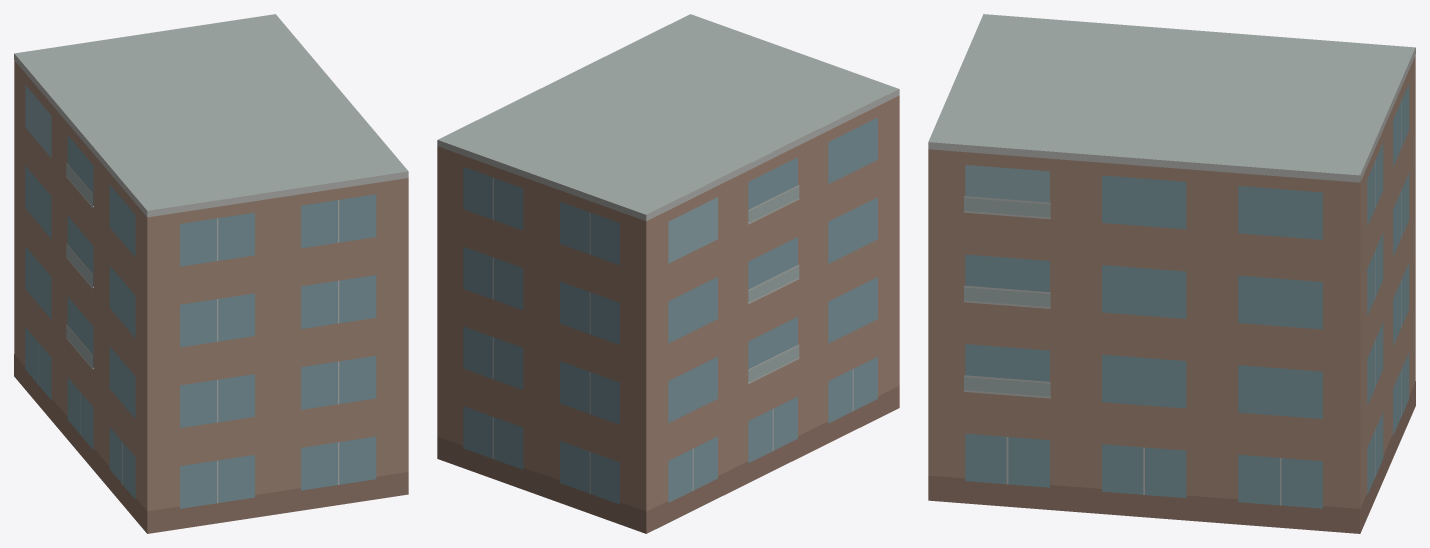
Rendered from residential-1fd75578-187d-47a9-b06c-35319a841c1a.glb.
The picture shows the model from 3 angles, left to right: view 1: azimuth 30°, elevation 25°; view 2: azimuth 150°, elevation 25°; view 3: azimuth 270°, elevation 25°; orthographic projection. The views are drawn at different scales.
Parts seen in each view (by area): view 1: residential-1fd75578-187d-47a9-b06c-35319a841c1a.tmp; view 2: residential-1fd75578-187d-47a9-b06c-35319a841c1a.tmp; view 3: residential-1fd75578-187d-47a9-b06c-35319a841c1a.tmp.
Part boxes in pixels (left/top/right/bottom): residential-1fd75578-187d-47a9-b06c-35319a841c1a.tmp: left=14, top=14, right=408, bottom=533; residential-1fd75578-187d-47a9-b06c-35319a841c1a.tmp: left=437, top=14, right=899, bottom=533; residential-1fd75578-187d-47a9-b06c-35319a841c1a.tmp: left=928, top=14, right=1415, bottom=533.
Bounding box in the file's own units: 11.8 × 12.2 × 15.05.
